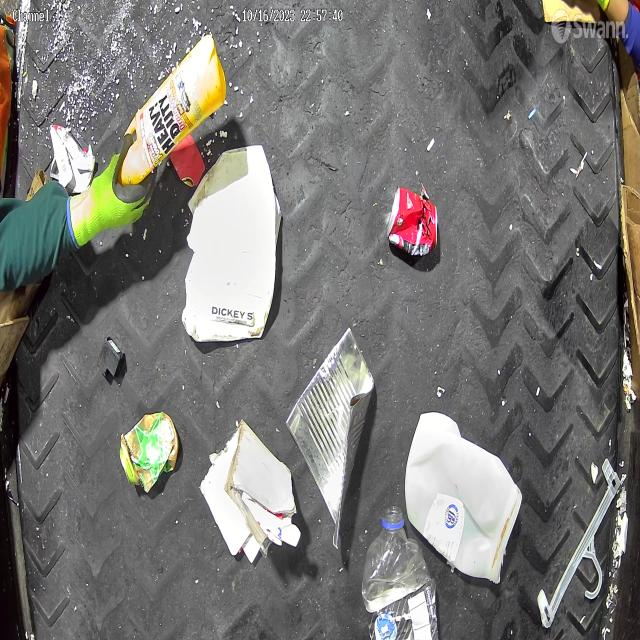can: (386, 187, 438, 257)
milk_jug: (404, 412, 523, 586)
non_white_jug: (118, 35, 226, 184)
plastic_bottle: (361, 505, 439, 640)
